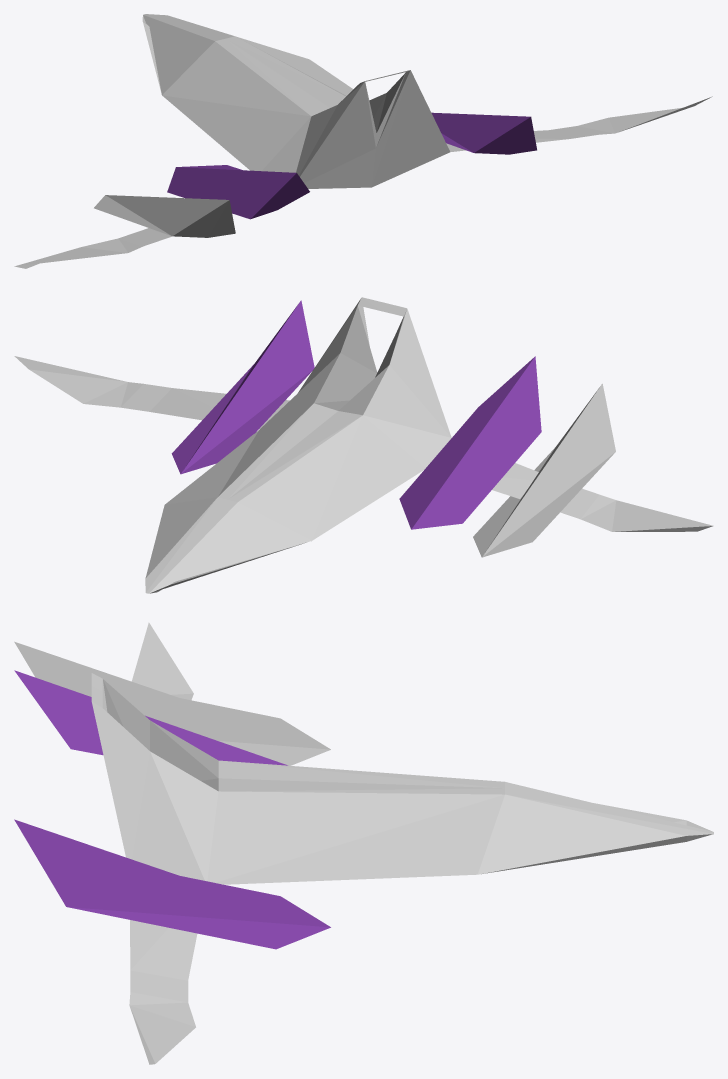
The model's file is nave.fbx.
3 views of the same model, one above another, from view 1: azimuth 30°, elevation 25°; view 2: azimuth 150°, elevation 25°; view 3: azimuth 270°, elevation 25° (orthographic). The views are drawn at different scales.
Visible parts, largest first — view 1: pCube1, polySurface3, pCube3, pCube2; view 2: pCube1, polySurface3, pCube2, pCube3; view 3: pCube1, pCube2, pCube3, polySurface3.
Part boxes in pixels (x1=…): pCube1: x1=14, y1=14, x2=712, y2=268; polySurface3: x1=167, y1=165, x2=309, y2=219; pCube3: x1=94, y1=195, x2=235, y2=237; pCube2: x1=431, y1=112, x2=536, y2=154; pCube1: x1=14, y1=297, x2=713, y2=593; polySurface3: x1=399, y1=356, x2=541, y2=529; pCube2: x1=171, y1=300, x2=314, y2=474; pCube3: x1=473, y1=383, x2=615, y2=557; pCube1: x1=91, y1=622, x2=713, y2=1064; pCube2: x1=14, y1=819, x2=330, y2=949; pCube3: x1=14, y1=641, x2=330, y2=765; polySurface3: x1=14, y1=670, x2=287, y2=765.
Size of what is drawn, in the model's own units: 32.47 by 6.35 by 21.72.
